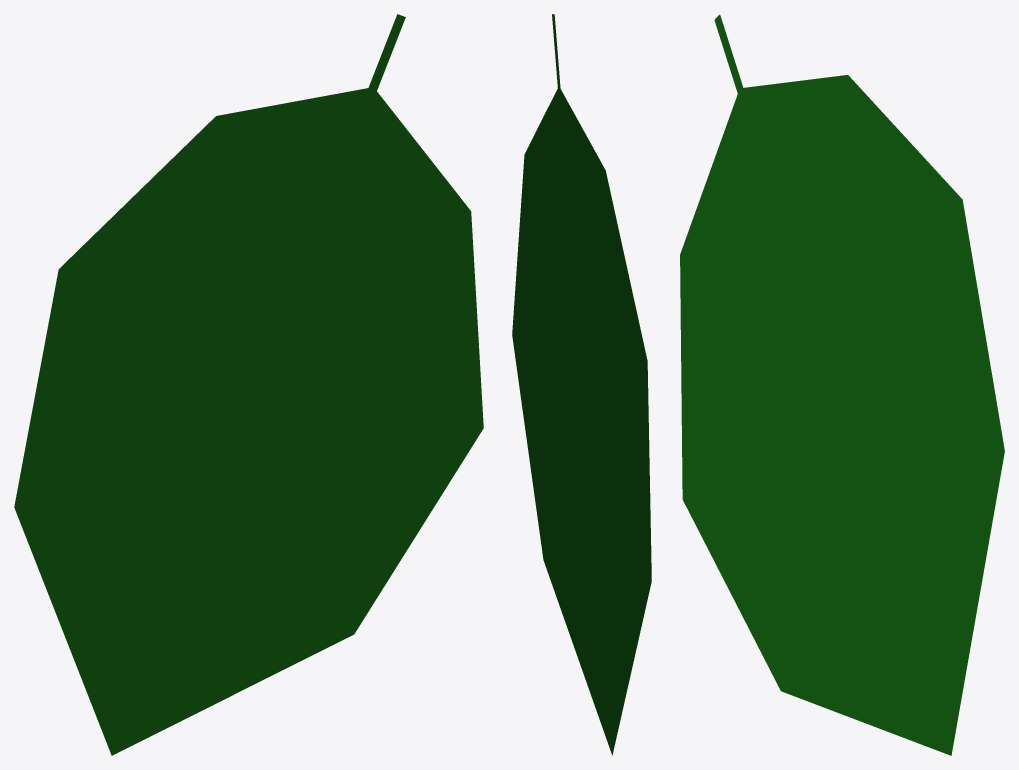
File: Leaves.169.obj
3 renders of one model, left to right at view 1: azimuth 30°, elevation 25°; view 2: azimuth 150°, elevation 25°; view 3: azimuth 270°, elevation 25°, orthographic. The views are drawn at different scales.
Parts seen in each view (by area): view 1: Leaves.169_leaves.169; view 2: Leaves.169_leaves.169; view 3: Leaves.169_leaves.169.
Boxes of the visible parts, left/top/right/bottom form: Leaves.169_leaves.169: left=14, top=14, right=483, bottom=755; Leaves.169_leaves.169: left=512, top=14, right=651, bottom=755; Leaves.169_leaves.169: left=680, top=14, right=1004, bottom=755.
Size of the model in its own units: 0.061 by 0.1417 by 0.05.
